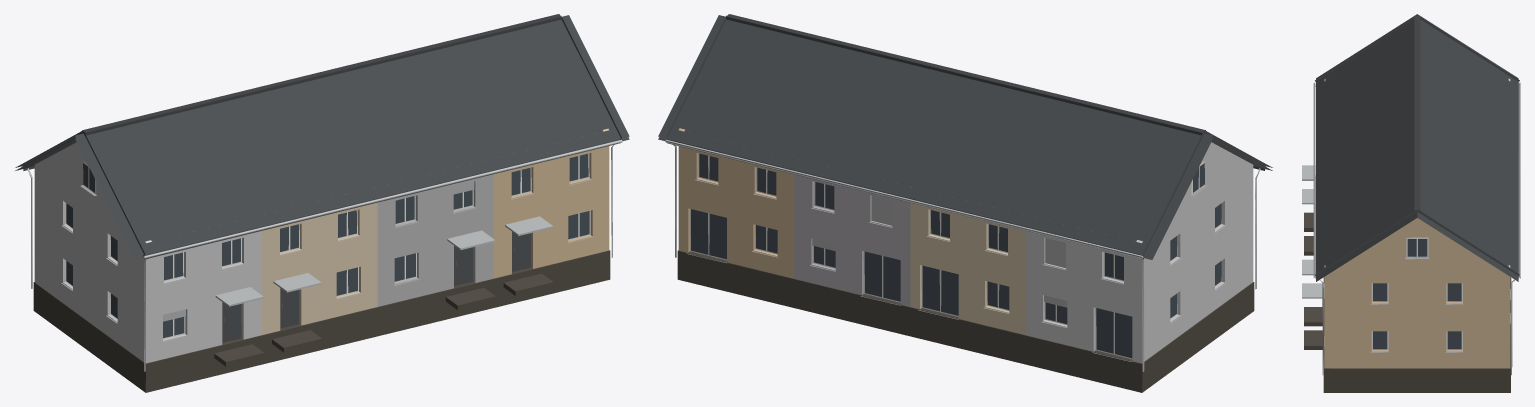
The model's file is house-terrace-row-lod1.glb.
3 views of the same model, side by side, from view 1: azimuth 30°, elevation 25°; view 2: azimuth 150°, elevation 25°; view 3: azimuth 270°, elevation 25° (orthographic). The views are drawn at different scales.
Parts seen in each view (by area): view 1: house-terrace-row-plaster0.001; view 2: house-terrace-row-plaster0.001; view 3: house-terrace-row-plaster0.001.
Part boxes in pixels (x1,y1,x2,y2): house-terrace-row-plaster0.001: [15, 14, 629, 392]; house-terrace-row-plaster0.001: [658, 14, 1272, 392]; house-terrace-row-plaster0.001: [1302, 14, 1520, 392].
Size of the model in its own units: 25.6 by 11.01 by 11.77.
